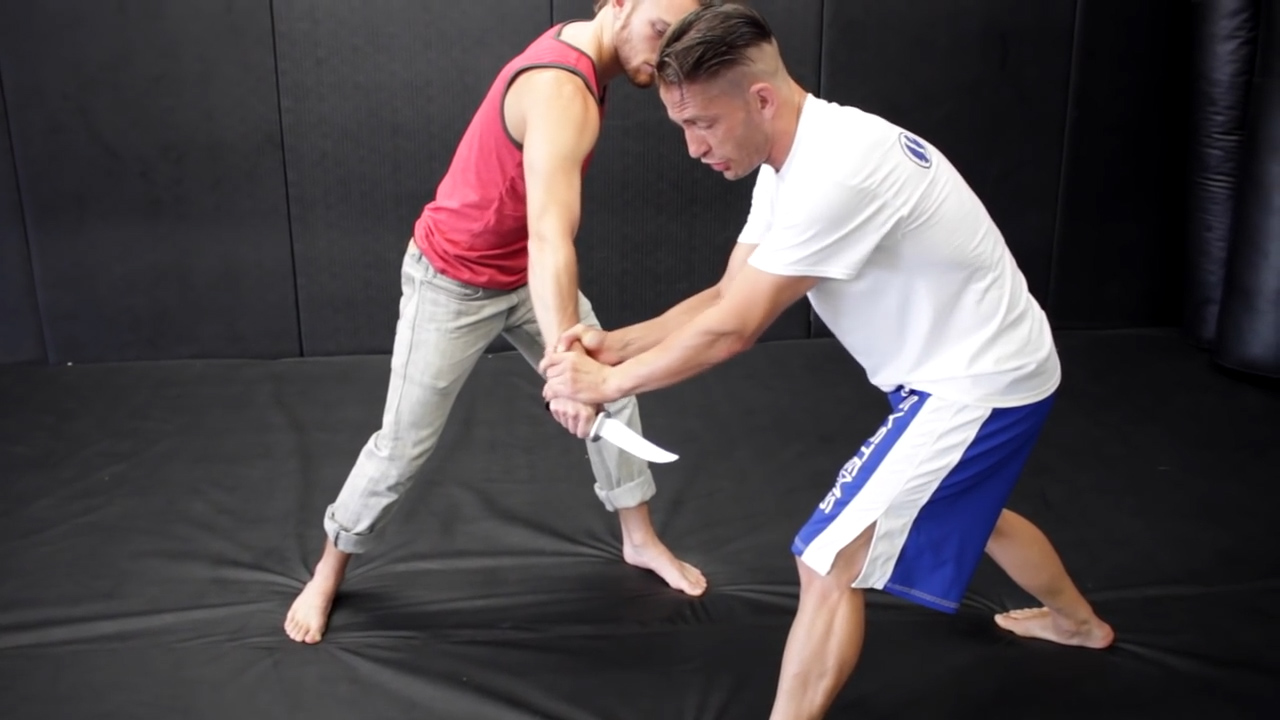knife: (541, 397, 688, 472)
